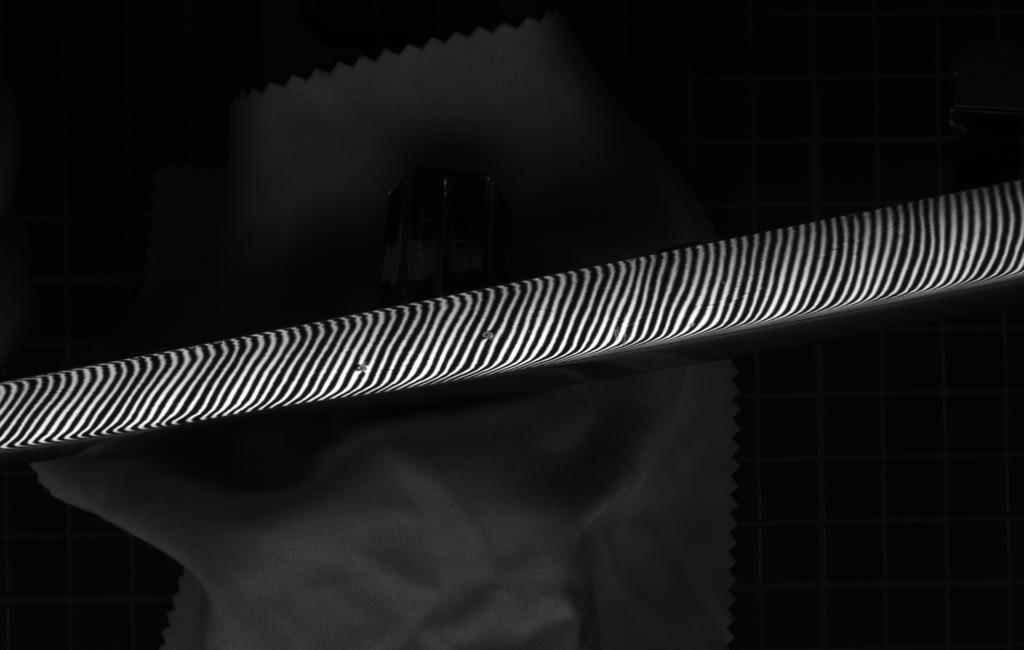Pierced: (478, 326, 499, 344), (352, 360, 370, 377)
